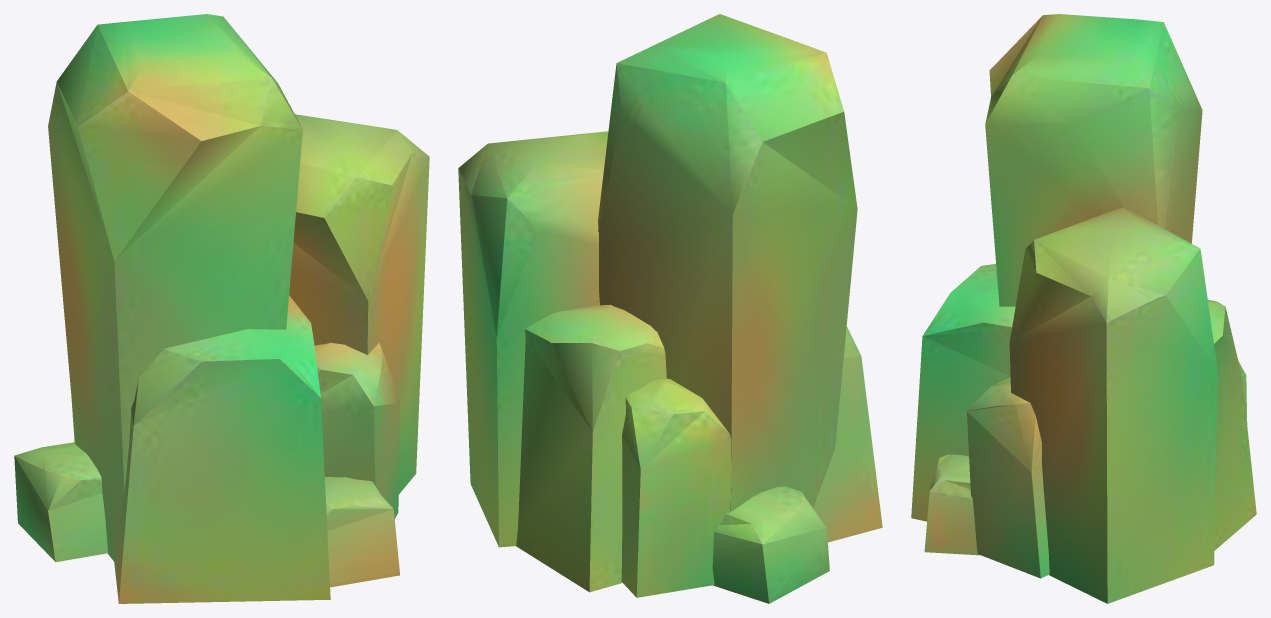
The model's file is r32_erzpack_object_4.glb.
3 views of the same model, side by side, from view 1: azimuth 30°, elevation 25°; view 2: azimuth 150°, elevation 25°; view 3: azimuth 270°, elevation 25° (orthographic). The views are drawn at different scales.
Visible parts, largest first — view 1: erz_4; view 2: erz_4; view 3: erz_4.
Part boxes in pixels (x1,y1,x2,y2): erz_4: (14,14,429,603); erz_4: (458,14,882,603); erz_4: (911,14,1256,603).
Size of the model in its own units: 0.7772 by 1 by 0.6767.
Materials: 1 (1 with a texture image).
